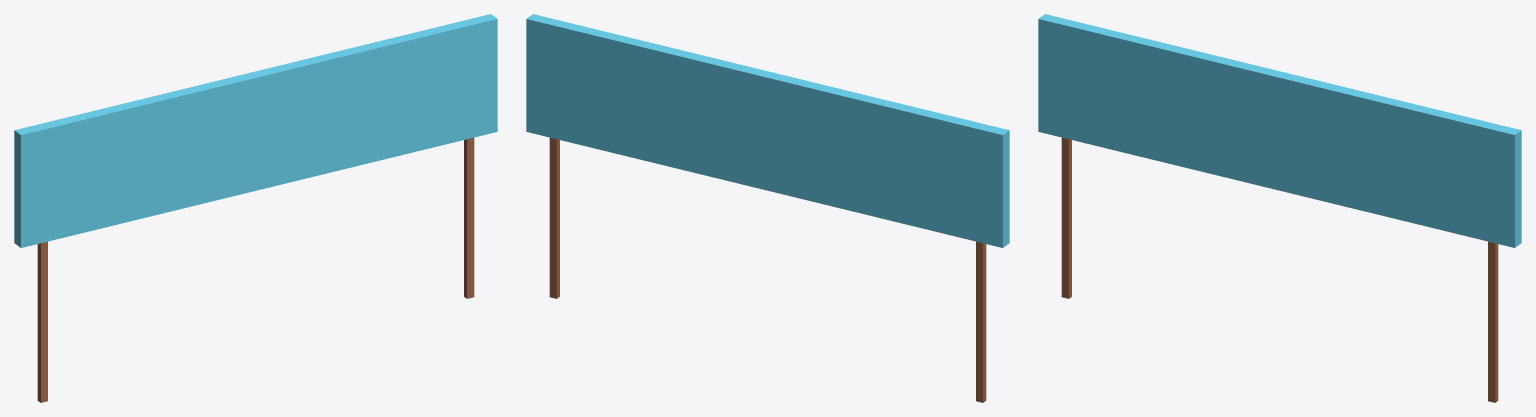
The model's file is Name_board.fbx.
3 renders of one model, left to right at view 1: azimuth 30°, elevation 25°; view 2: azimuth 150°, elevation 25°; view 3: azimuth 330°, elevation 25°, orthographic.
Parts seen in each view (by area): view 1: Poster_00, Poles_01_2, Poles_01_1; view 2: Poster_00, Poles_01_2, Poles_01_1; view 3: Poster_00, Poles_01_1, Poles_01_2.
Boxes of the visible parts, bbox=[...] form: Poster_00: bbox=[14, 14, 497, 247]; Poles_01_2: bbox=[464, 137, 474, 298]; Poles_01_1: bbox=[37, 241, 47, 402]; Poster_00: bbox=[526, 14, 1009, 247]; Poles_01_2: bbox=[549, 137, 559, 298]; Poles_01_1: bbox=[976, 241, 986, 402]; Poster_00: bbox=[1038, 14, 1521, 247]; Poles_01_1: bbox=[1061, 137, 1071, 298]; Poles_01_2: bbox=[1488, 241, 1498, 402].
Size of the model in its own units: 372 by 204 by 9.08.
